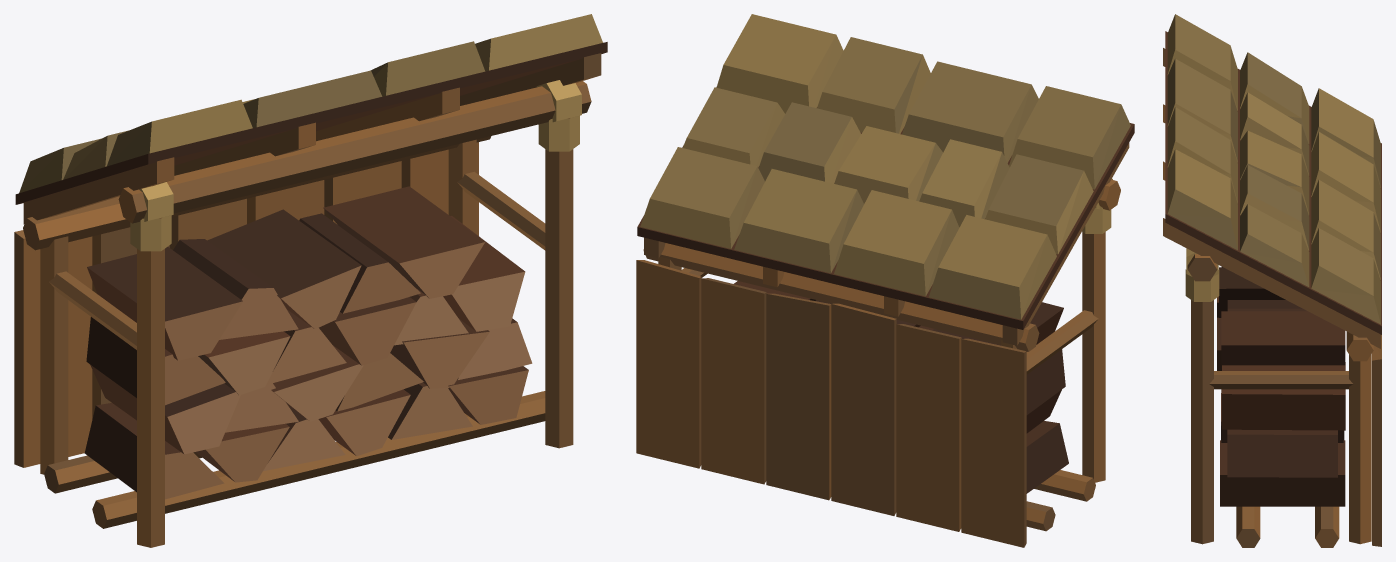
File: log-store-25e0b5.glb
The picture shows the model from 3 angles, left to right: view 1: azimuth 30°, elevation 25°; view 2: azimuth 150°, elevation 25°; view 3: azimuth 270°, elevation 25°; orthographic projection. The views are drawn at different scales.
Parts seen in each view (by area): view 1: log-store-body; view 2: log-store-body; view 3: log-store-body.
Part boxes in pixels (box(x1,y1,x2,y2)): log-store-body: box(14, 14, 607, 547); log-store-body: box(636, 14, 1134, 547); log-store-body: box(1163, 14, 1381, 547).
Size of the model in its own units: 1.99 by 1.8 by 1.
